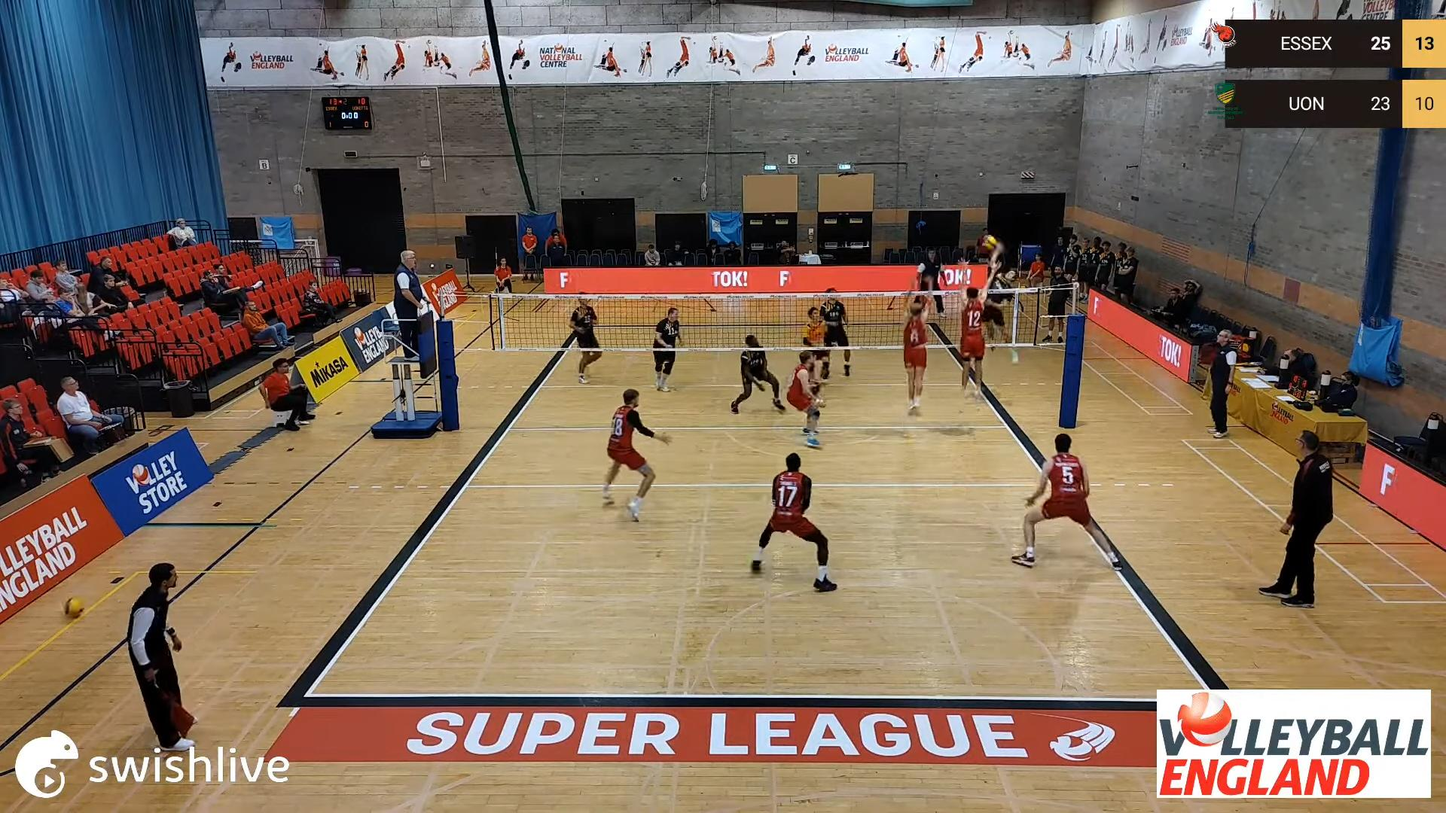attacco: (979, 256, 1024, 366)
muro: (953, 271, 1003, 403), (901, 287, 936, 423)
